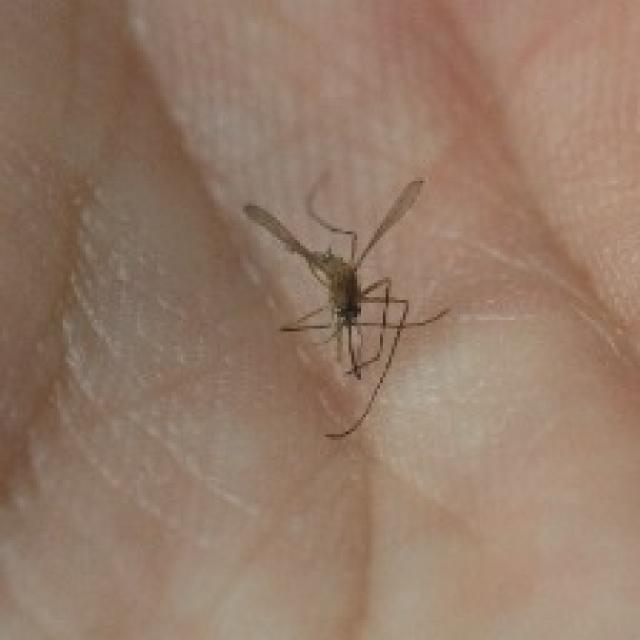culex: (240, 169, 449, 440)
